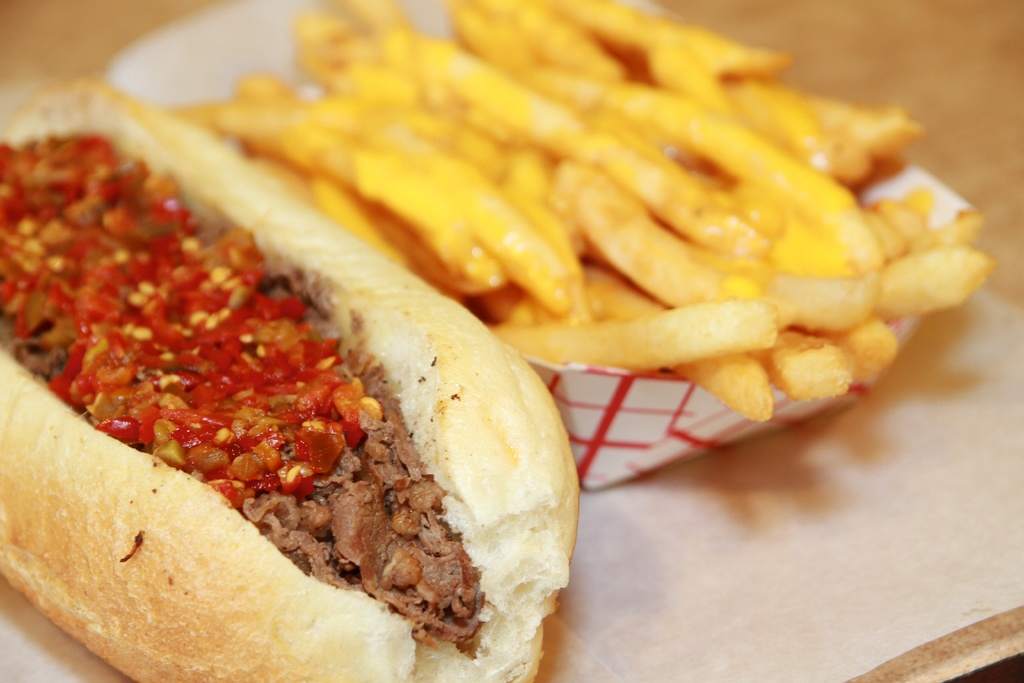French fries: (178, 0, 1002, 432)
